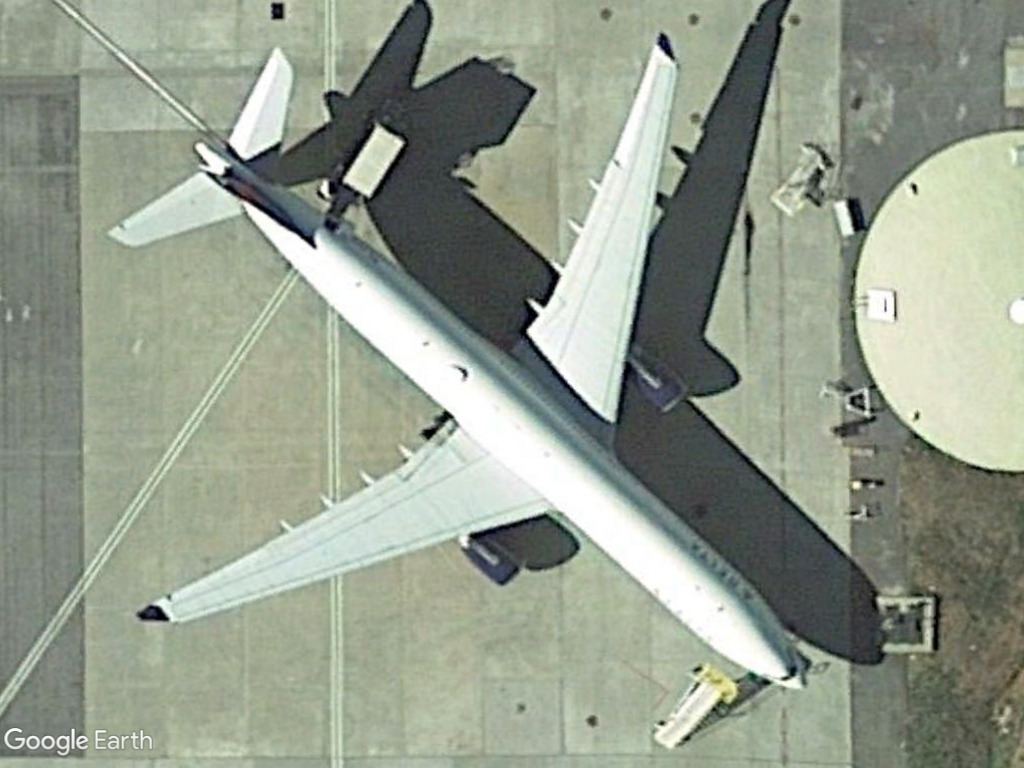airliner: (97, 23, 811, 694)
stairtruck: (647, 662, 733, 752)
